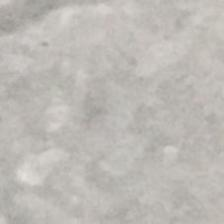Non_Crack: (31, 35, 191, 193)
